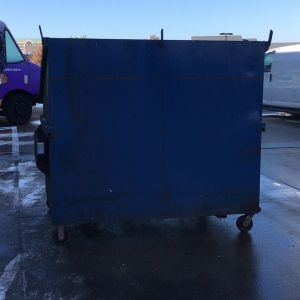Dumpster: (33, 22, 279, 242)
